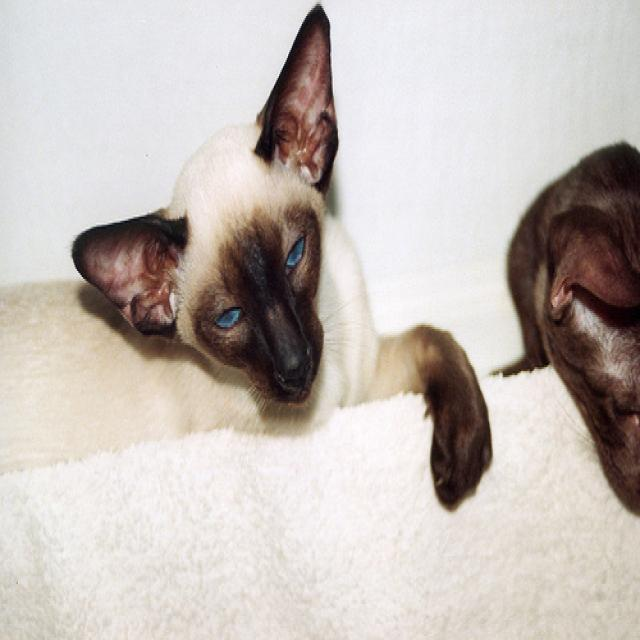left eye: (282, 231, 307, 275)
